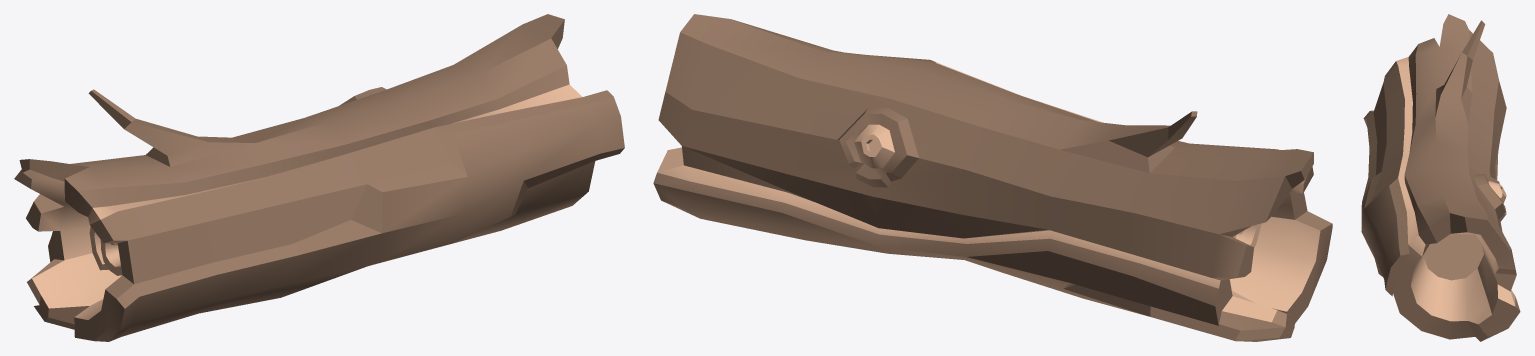
File: Trunk.fbx
The picture shows the model from 3 angles, left to right: view 1: azimuth 30°, elevation 25°; view 2: azimuth 150°, elevation 25°; view 3: azimuth 270°, elevation 25°; orthographic projection. The views are drawn at different scales.
Parts seen in each view (by area): view 1: Trunk_GEO; view 2: Trunk_GEO; view 3: Trunk_GEO.
Boxes of the visible parts, x1,y1,x2,y2 form: Trunk_GEO: (14,14,624,341); Trunk_GEO: (653,14,1332,341); Trunk_GEO: (1361,14,1520,341).
Bounding box in the file's own units: 196 × 73.54 × 64.15.
